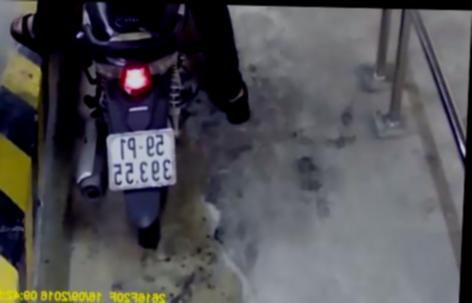License_Plate: (97, 123, 182, 196)
